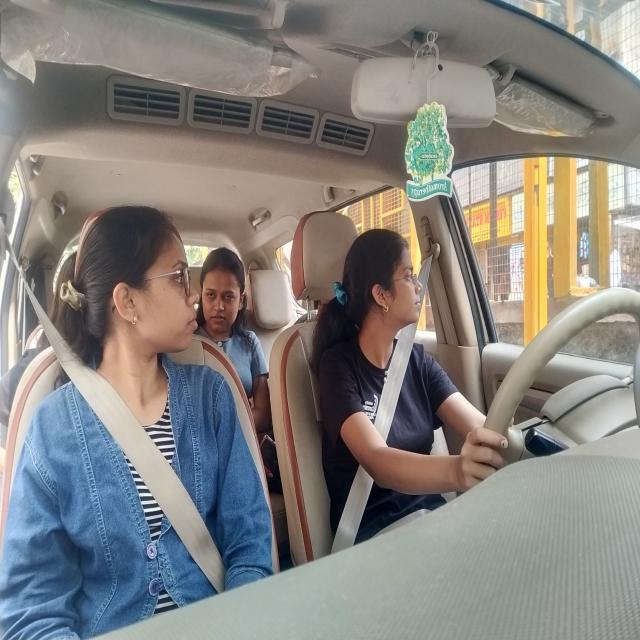LeftRight: (339, 212, 424, 353)
person: (74, 205, 204, 365), (198, 238, 256, 358)
